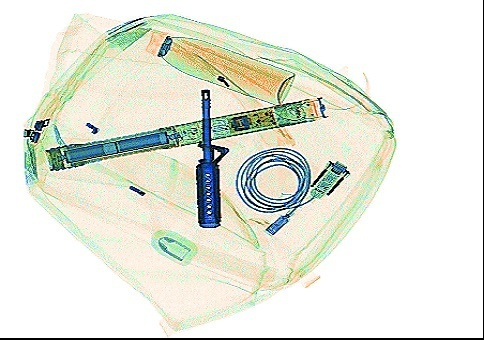pressure: (143, 28, 295, 106)
